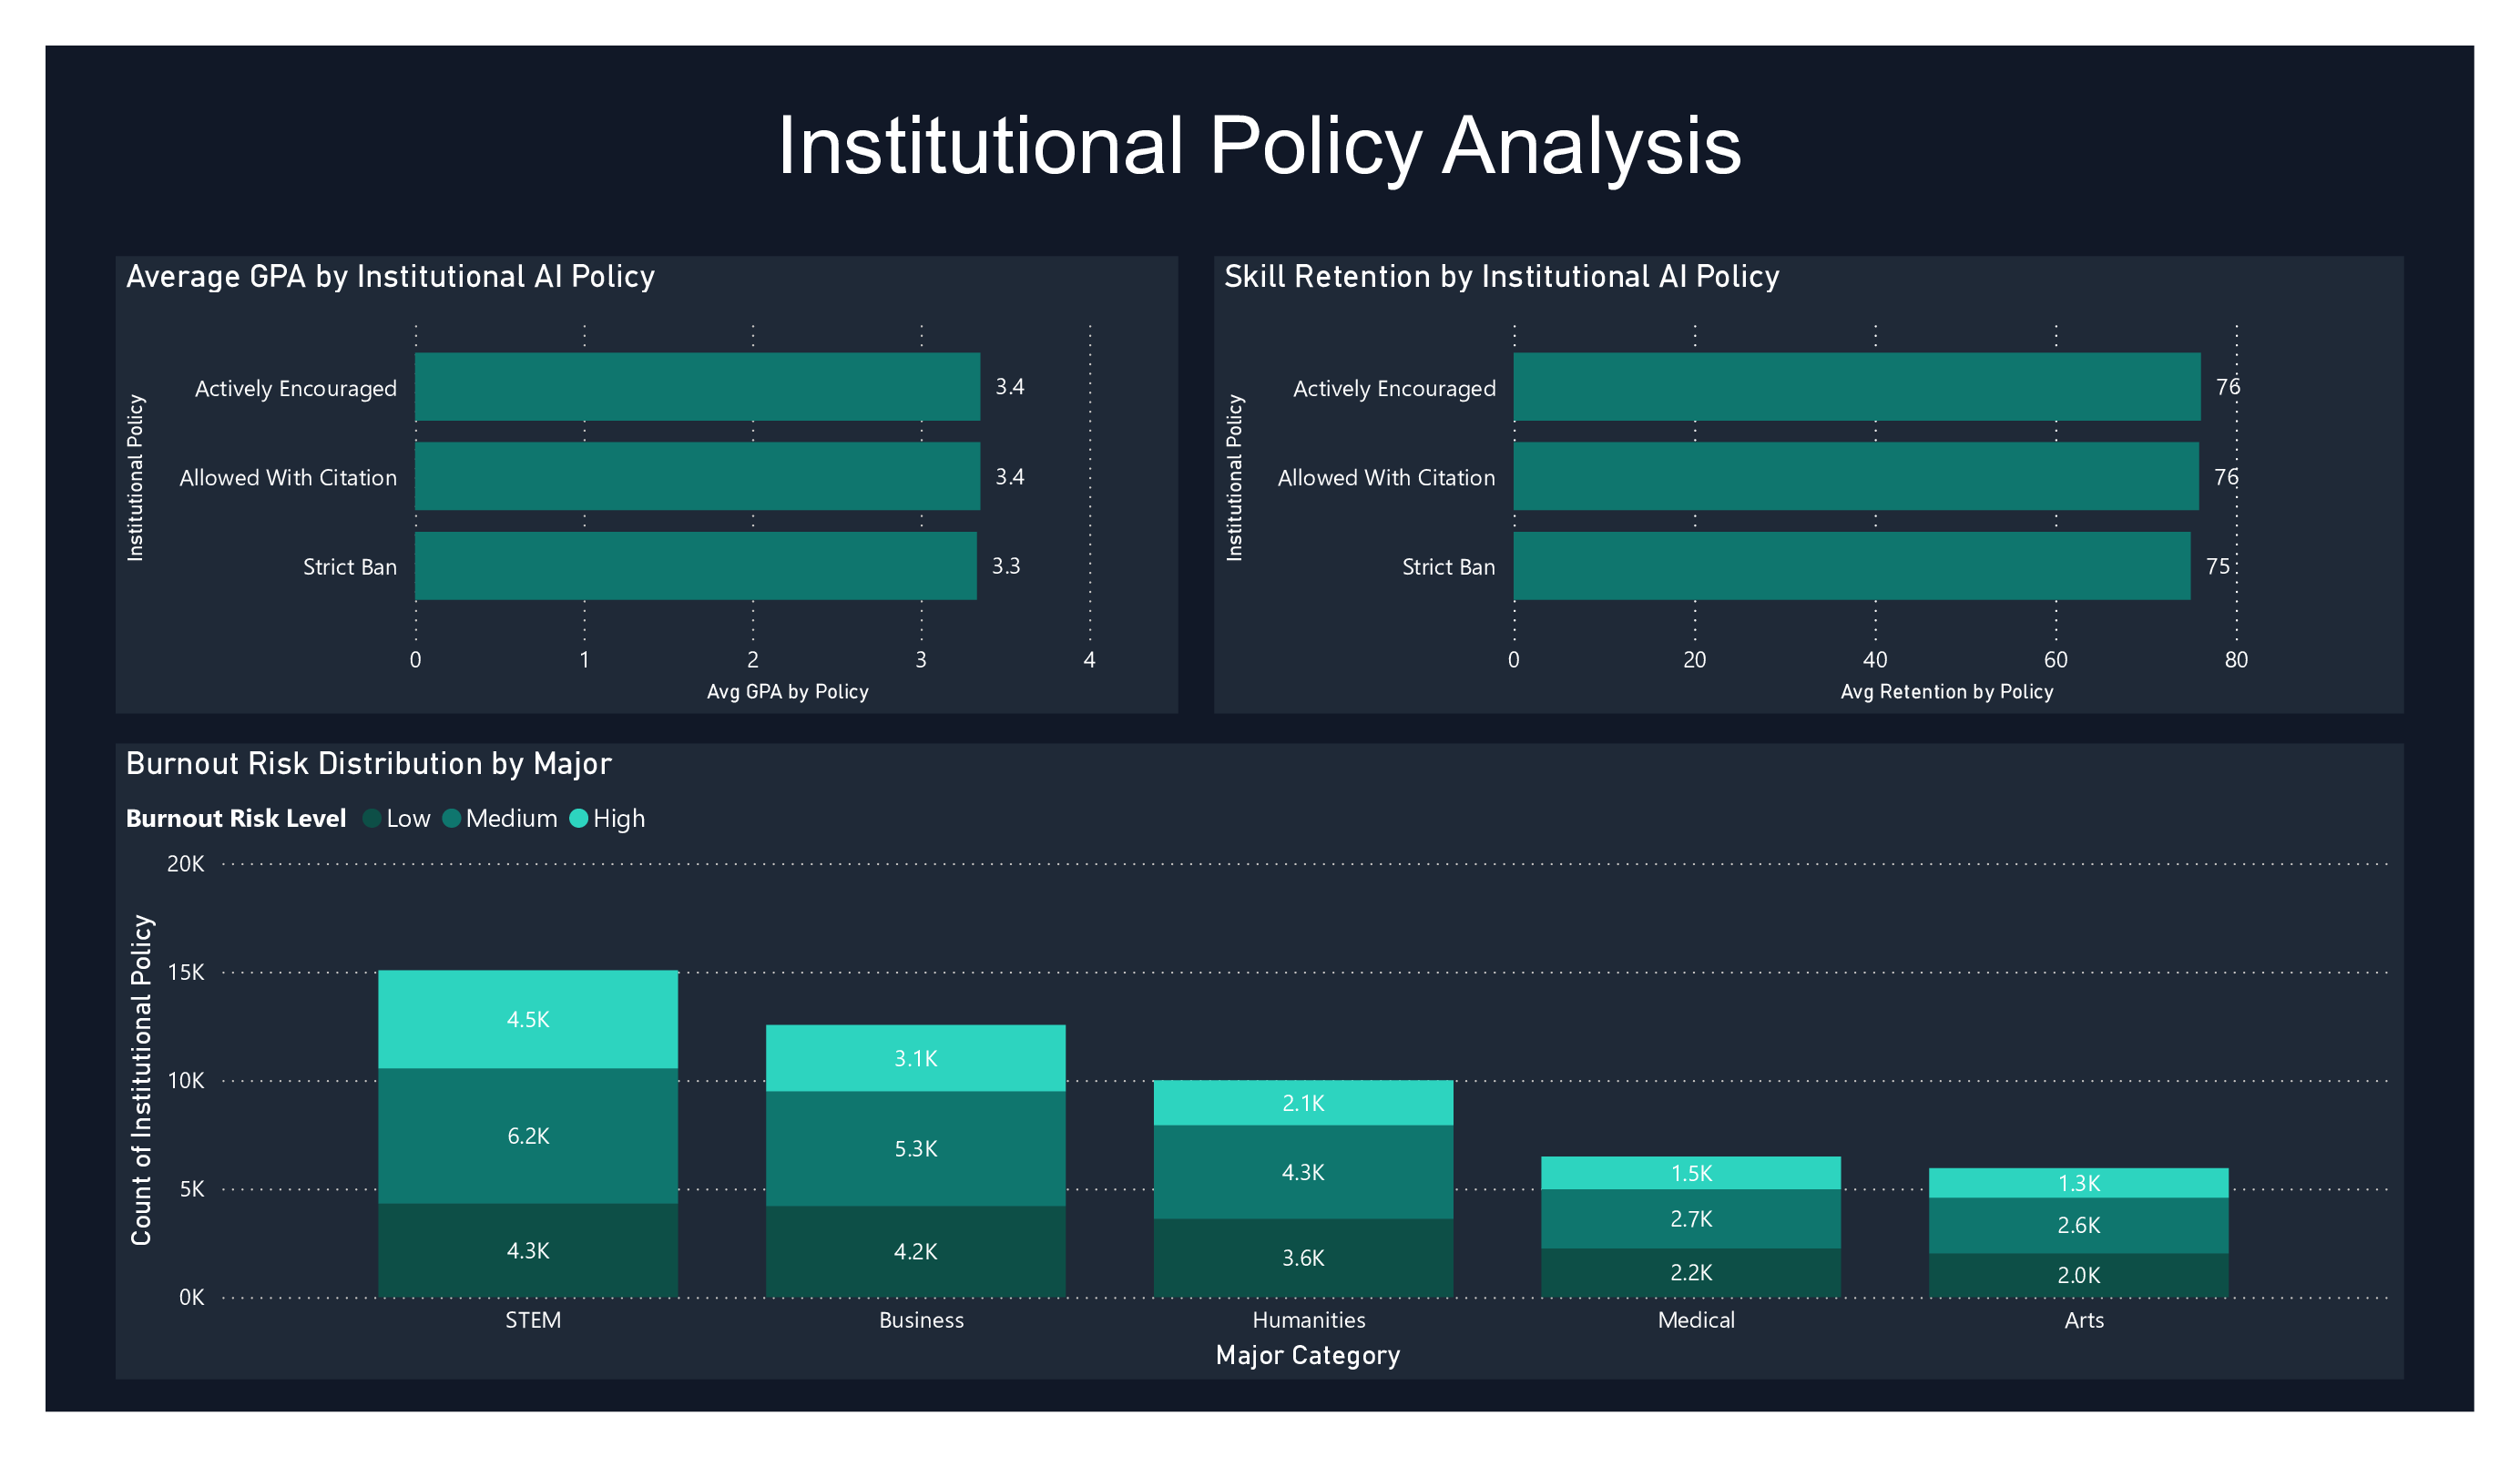

Layout of this report page (visuals, bound fields, positions):
{"tool":"powerbi","page":{"name":"Institutional Policy","canvas":[1280,720],"ordinal":2},"visuals":[{"type":"clusteredBarChart","title":"Average GPA by Institutional AI Policy","fields":{"Category":["ai_student_impact_dataset (1).Institutional_Policy"],"Y":["ai_student_impact_dataset (1).Avg GPA by Policy"]},"box":[36.7,111.1,560,241.1],"z":0},{"type":"columnChart","title":"Burnout Risk Distribution by Major","fields":{"Y":["CountNonNull(ai_student_impact_dataset (1).Institutional_Policy)"],"Series":["ai_student_impact_dataset (1).Burnout_Risk_Level"],"Category":["ai_student_impact_dataset (1).Major_Category"]},"box":[36.7,367.8,1206.7,335.6],"z":1000},{"type":"clusteredBarChart","title":"Skill Retention by Institutional AI Policy","fields":{"Category":["ai_student_impact_dataset (1).Institutional Policy"],"Y":["ai_student_impact_dataset (1).Avg Retention by Policy"]},"box":[615.6,111.1,627.8,241.1],"z":2000},{"type":"textbox","box":[157.8,23.3,964.4,66.7],"z":3000}]}

Visuals, with their boxes on the page's 1280x720 design canvas (x1, y1, x2, y2). These are canvas units, not pixel positions in the 2520x1457 screenshot, which may show the page scaled, cropped or inside an application window:
"Average GPA by Institutional AI Policy" clusteredBarChart: <bbox>37, 111, 597, 352</bbox>
"Burnout Risk Distribution by Major" columnChart: <bbox>37, 368, 1243, 703</bbox>
"Skill Retention by Institutional AI Policy" clusteredBarChart: <bbox>616, 111, 1243, 352</bbox>
textbox: <bbox>158, 23, 1122, 90</bbox>
